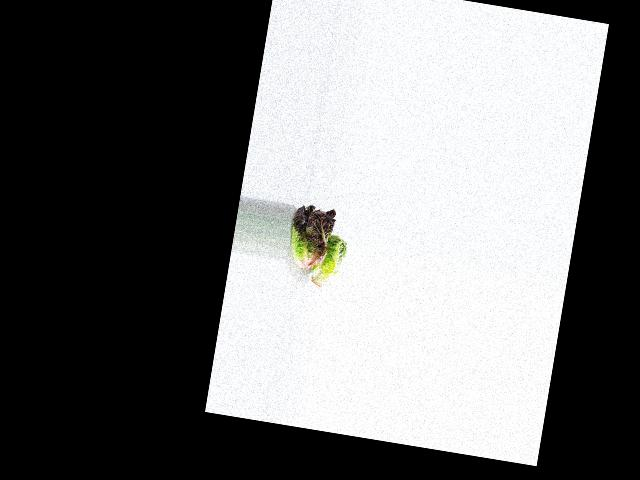lettuce: (307, 231, 349, 292)
